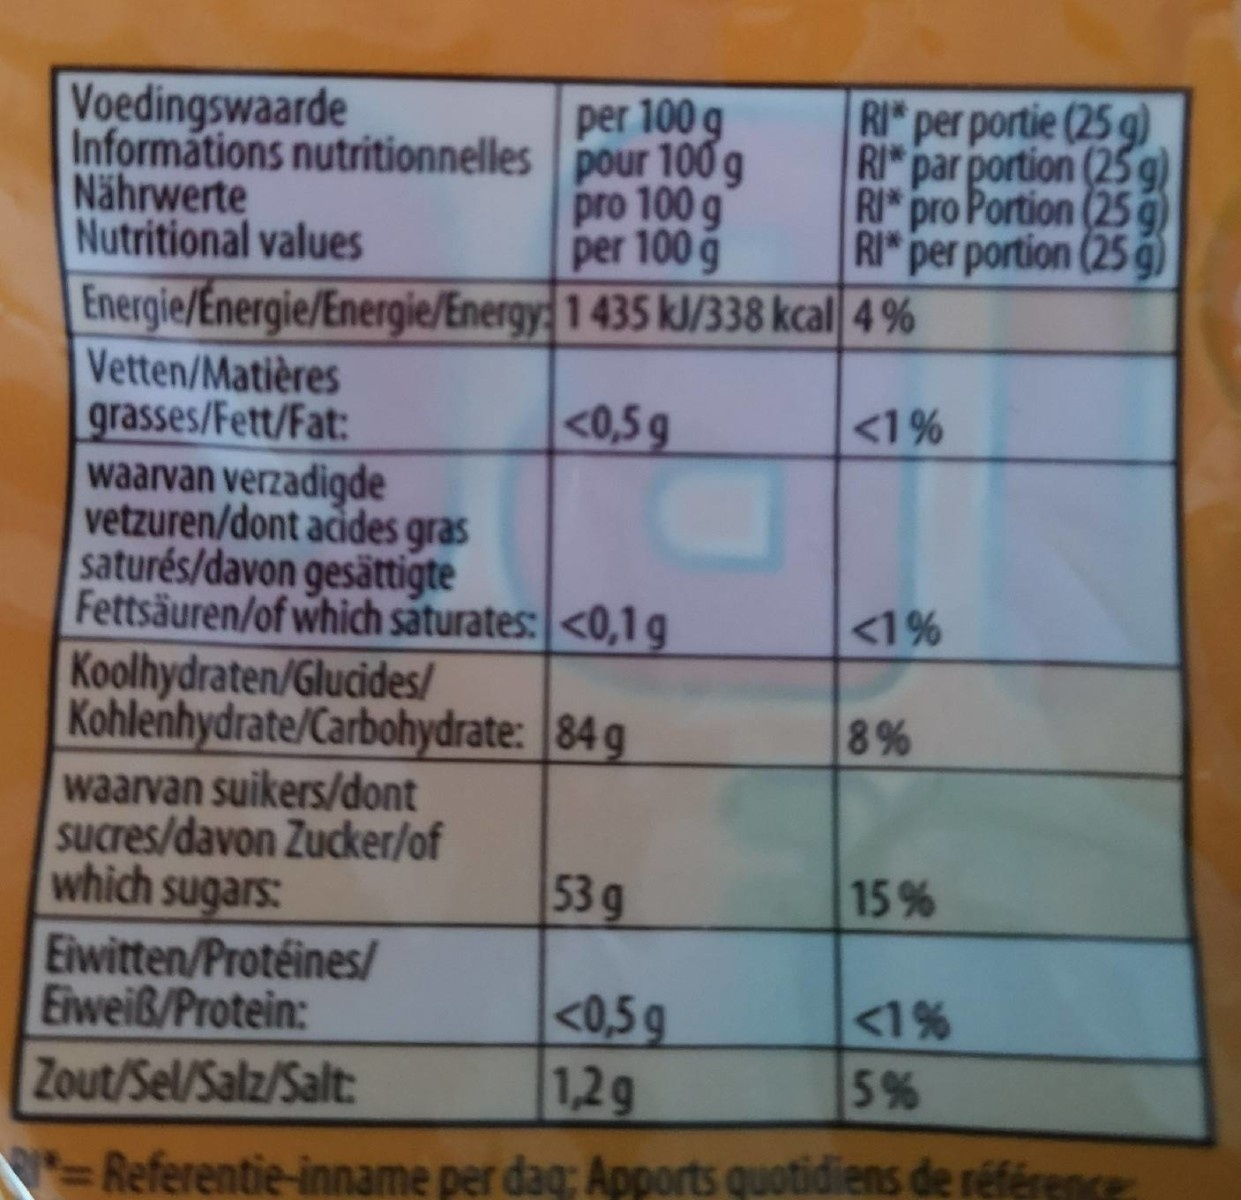column: (35, 70, 531, 1106), (855, 94, 1167, 1114), (555, 90, 834, 1105)
table: (21, 54, 1209, 1145)
